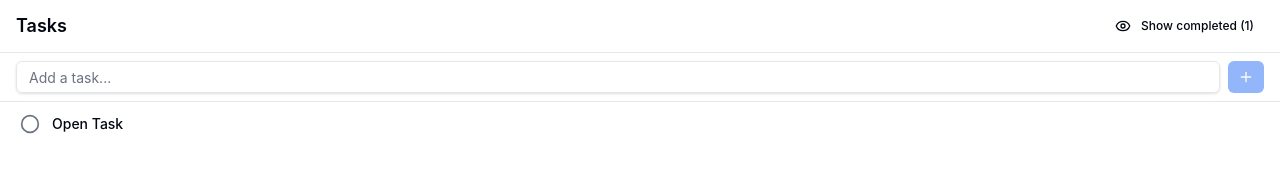
Test case: TodoClusterView › shows completed tasks when toggled
Expected: the link "Open Task" is shown, [52,115,123,132]
# Click to show completed
Step 1. Click the button "Show completed (1)" → (1184, 26), box [1105,12,1264,40]
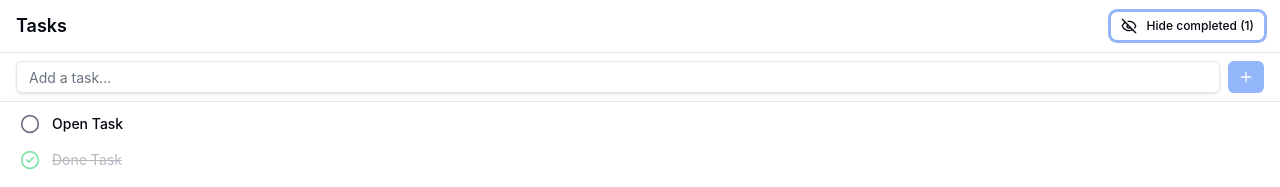
Expected: the link "Open Task" is shown, [52,115,123,132]
Now the link "Done Task" is shown, box [52,151,122,168]
